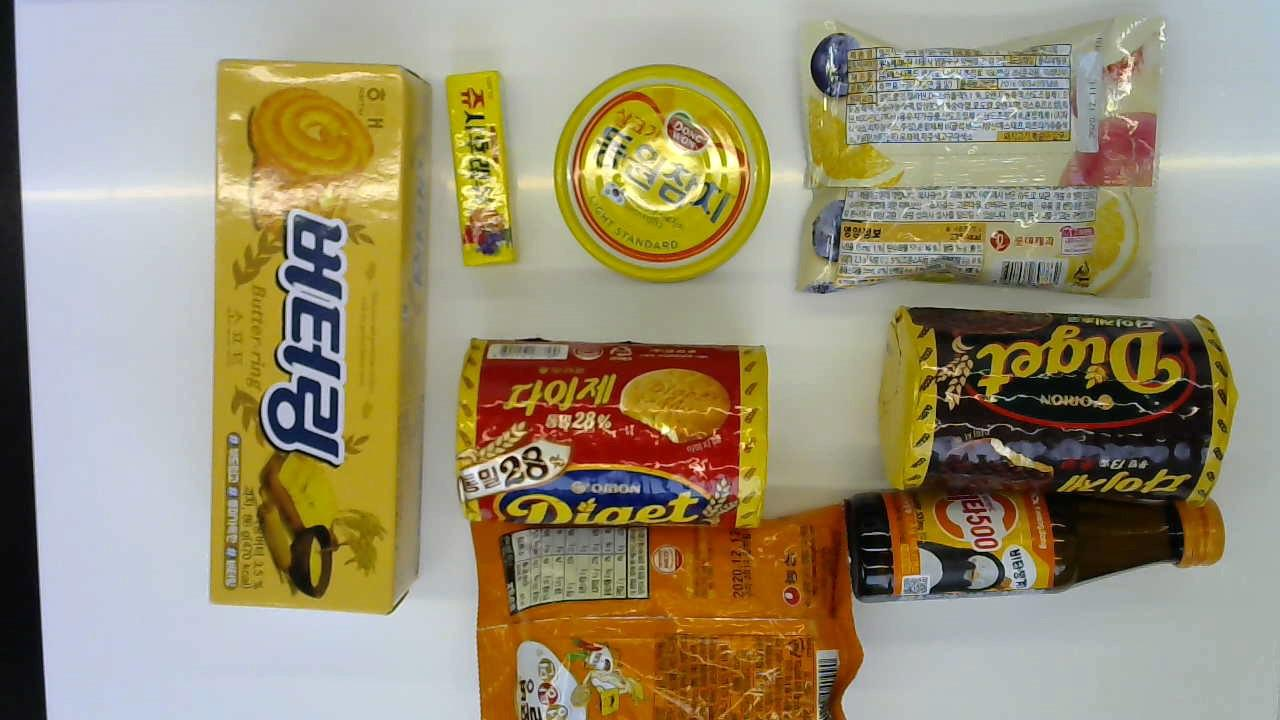buttering: (211, 52, 427, 613)
diget_choco: (877, 306, 1233, 503)
diget_ori: (453, 338, 767, 527)
gumi_gumi: (791, 12, 1156, 300)
jjolbyung_noodle: (478, 502, 852, 717)
juicyfresh: (444, 66, 517, 269)
tuna: (550, 64, 772, 281)
vita500: (847, 489, 1225, 601)
